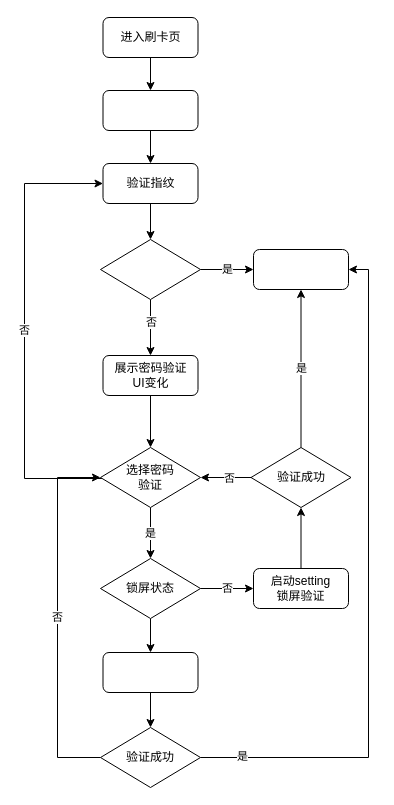
This 394x805 diagram has some shape labels left out. Each missing label, with the centre of its shape:
"启动keyGuard 验证" goes at (x=150, y=672).
"展示二维码" goes at (x=300, y=269).
"指纹验证 通过" goes at (x=150, y=269).
"银行卡选中" goes at (x=150, y=110).
